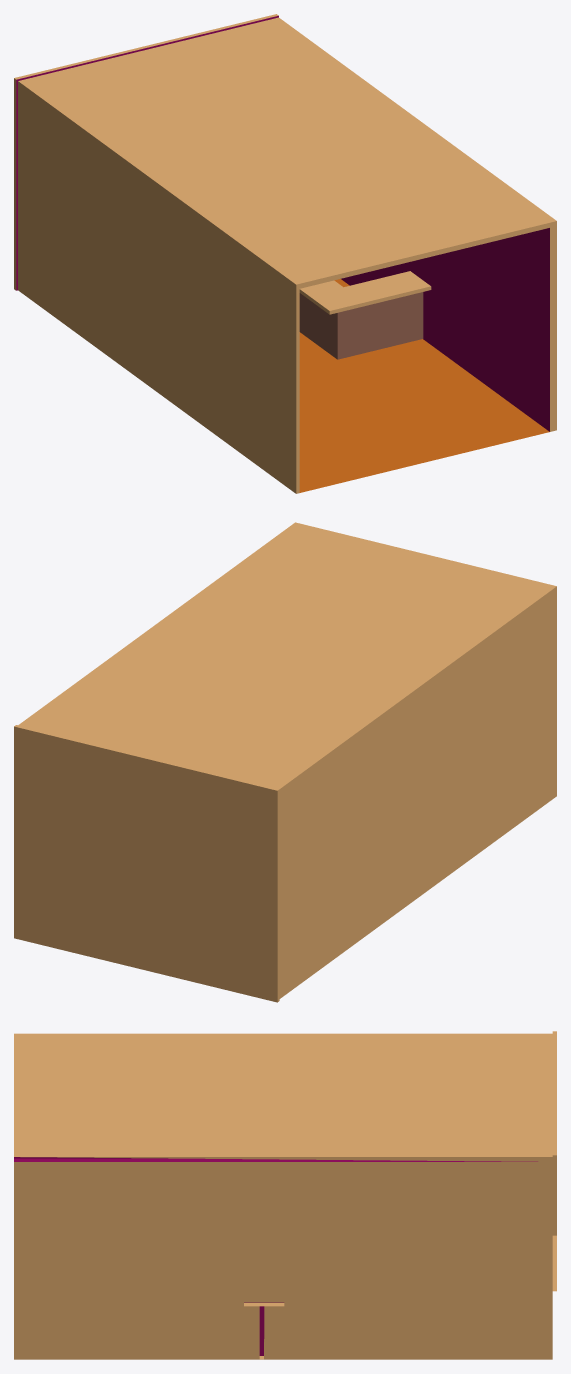
3 renders of one model, top to bottom at view 1: azimuth 30°, elevation 25°; view 2: azimuth 150°, elevation 25°; view 3: azimuth 270°, elevation 25°, orthographic. The views are drawn at different scales.
Visible parts, largest first — view 1: Cube; view 2: Cube; view 3: Cube.
Boxes of the visible parts, x1,y1,x2,y2 form: Cube: (14,14,556,493); Cube: (14,522,556,1002); Cube: (14,1031,556,1359).
Size of the model in its own units: 14.51 by 11.14 by 26.83.
